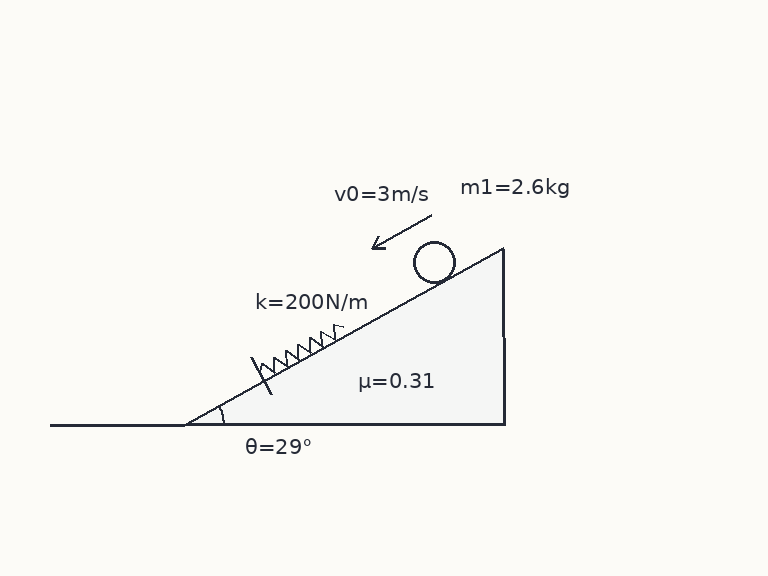ball: (411, 239, 457, 285)
ramp: (182, 246, 505, 427)
spring: (257, 322, 344, 375)
